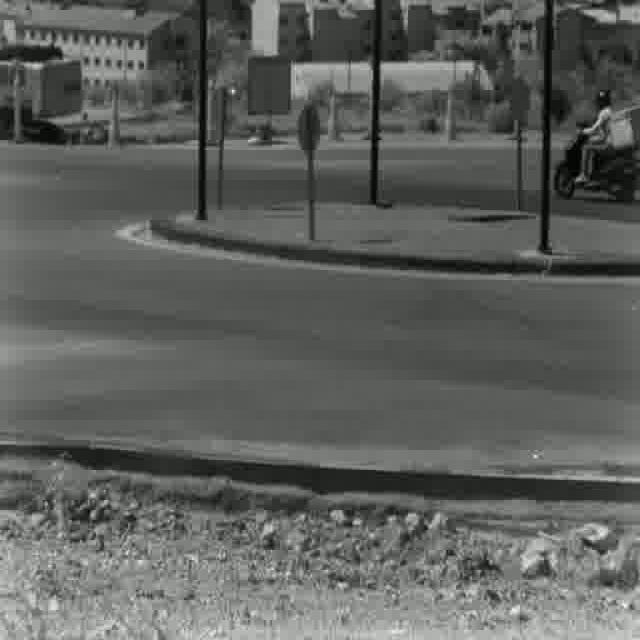Motorcycle: (554, 88, 640, 197)
